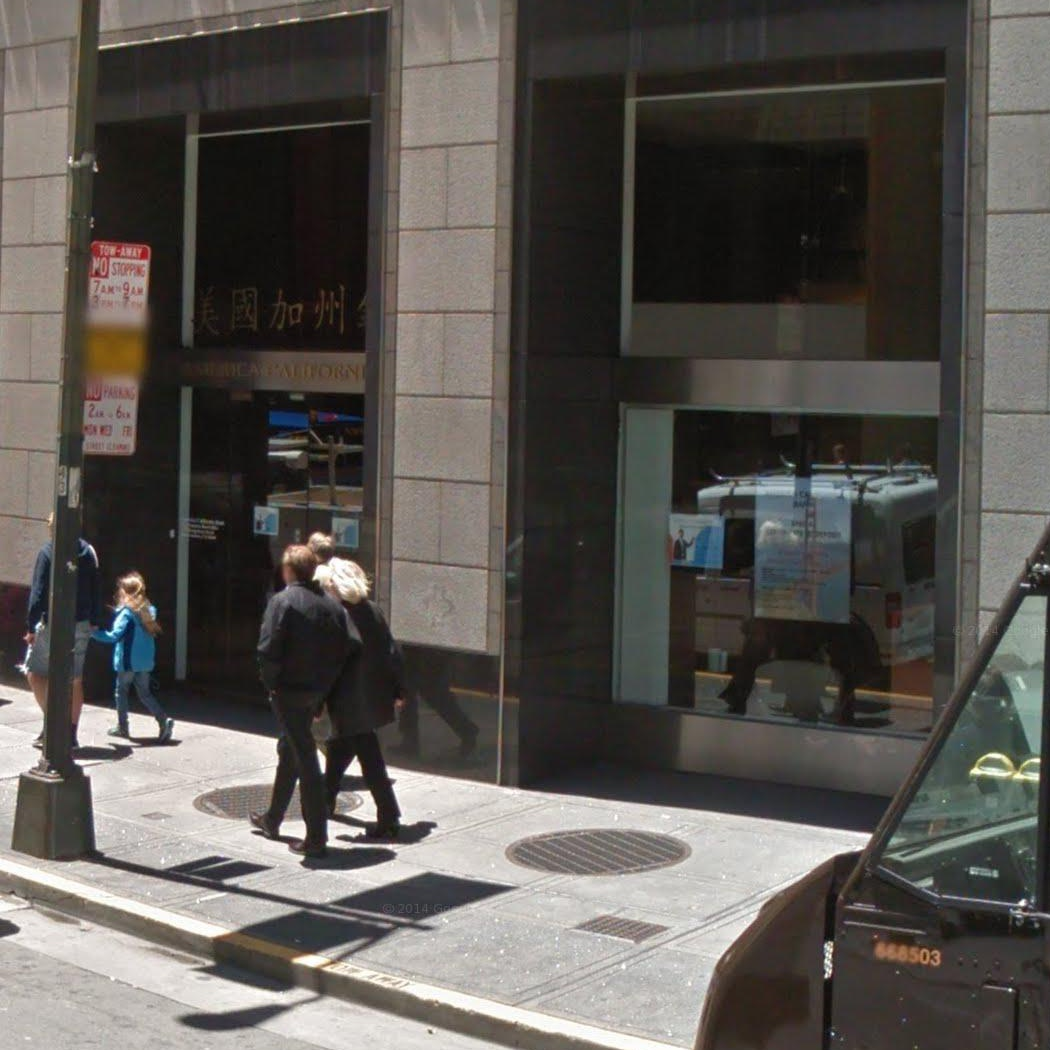No Parking: (78, 370, 140, 459)
